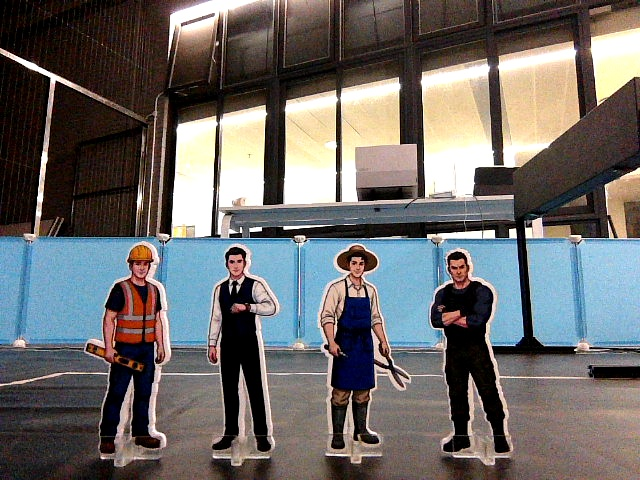community_person: (311, 238, 416, 469), (82, 234, 178, 469), (198, 234, 288, 472)
outsider: (428, 239, 519, 469)
